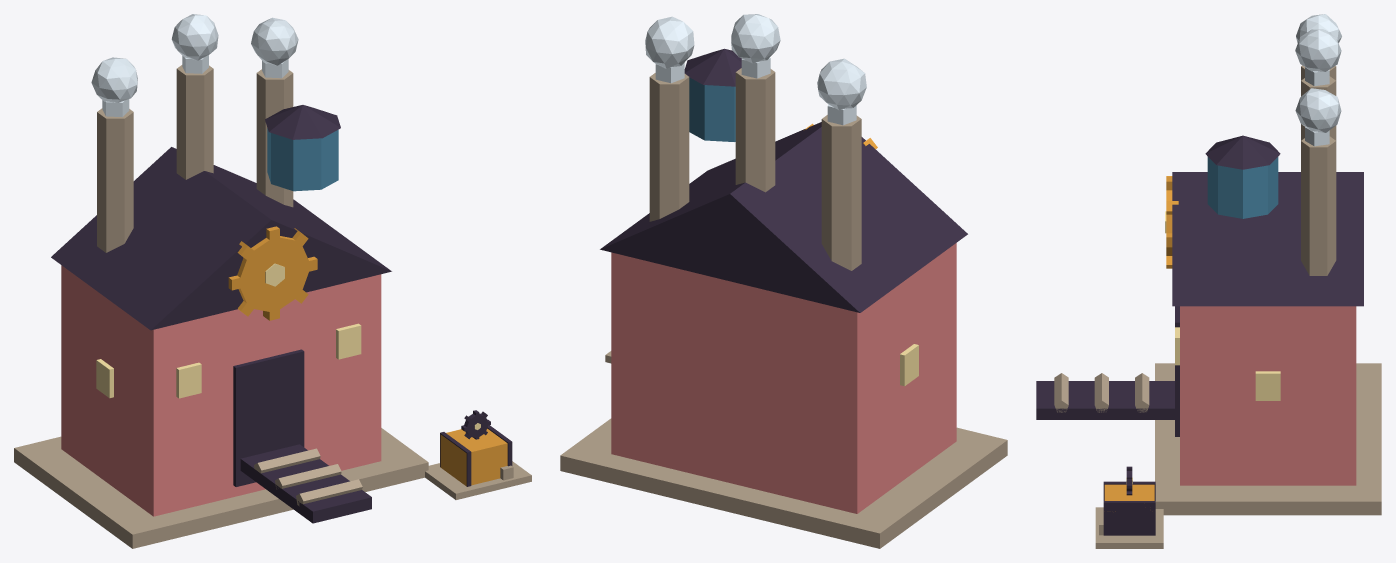
The model's file is factory-landmark-s3.glb.
3 renders of one model, left to right at view 1: azimuth 30°, elevation 25°; view 2: azimuth 150°, elevation 25°; view 3: azimuth 270°, elevation 25°, orthographic. The views are drawn at different scales.
Visible parts, largest first — view 1: factory-landmark-s3; view 2: factory-landmark-s3; view 3: factory-landmark-s3.
Boxes of the visible parts, x1,y1,x2,y2 form: factory-landmark-s3: (14, 14, 531, 548); factory-landmark-s3: (560, 14, 1007, 548); factory-landmark-s3: (1036, 14, 1381, 548).
Bounding box in the file's own units: 1.62 × 1.82 × 1.37.
